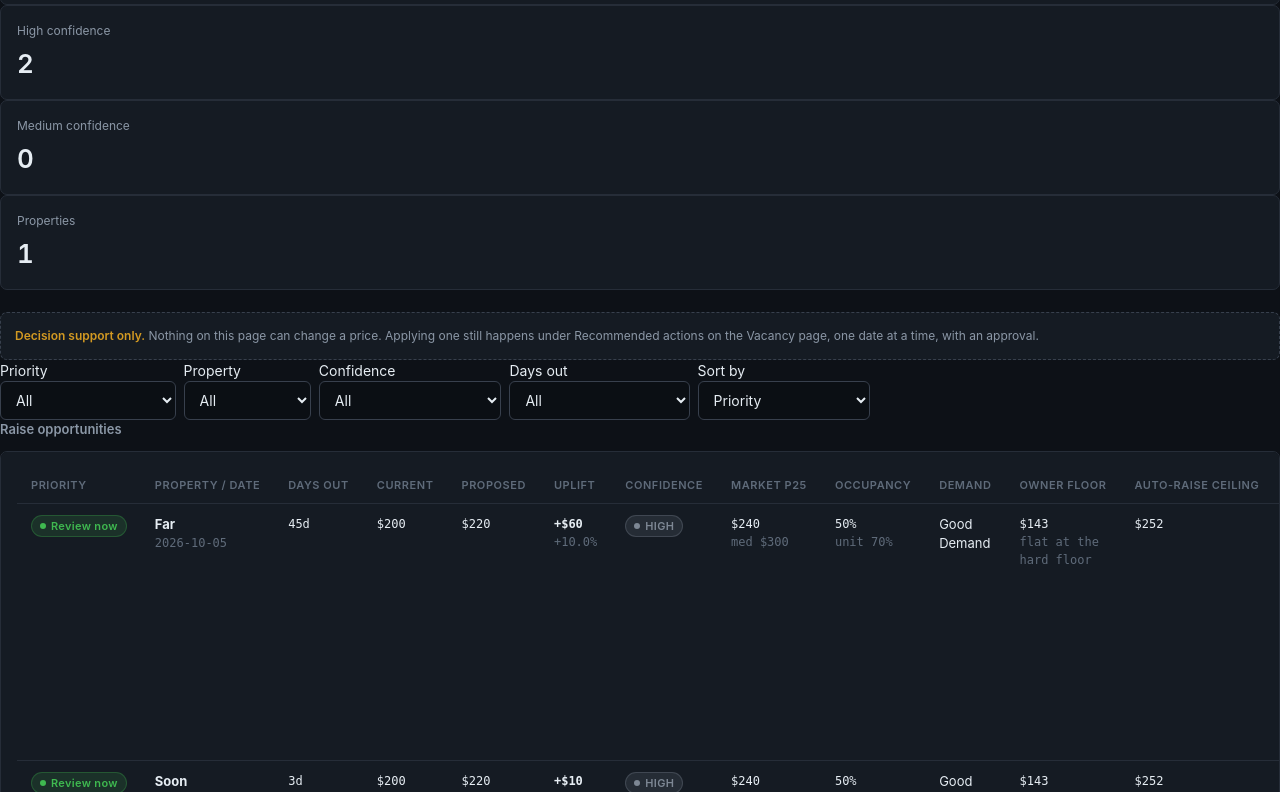
Test: OpportunitiesPage › filters by lead-time window and reconciles the total to what is shown
The image size is (1280, 792).
(page scrolled)
Select "0-7 days" in the dropdown labelled "Days out" at (600, 400), box [509,380,690,420]
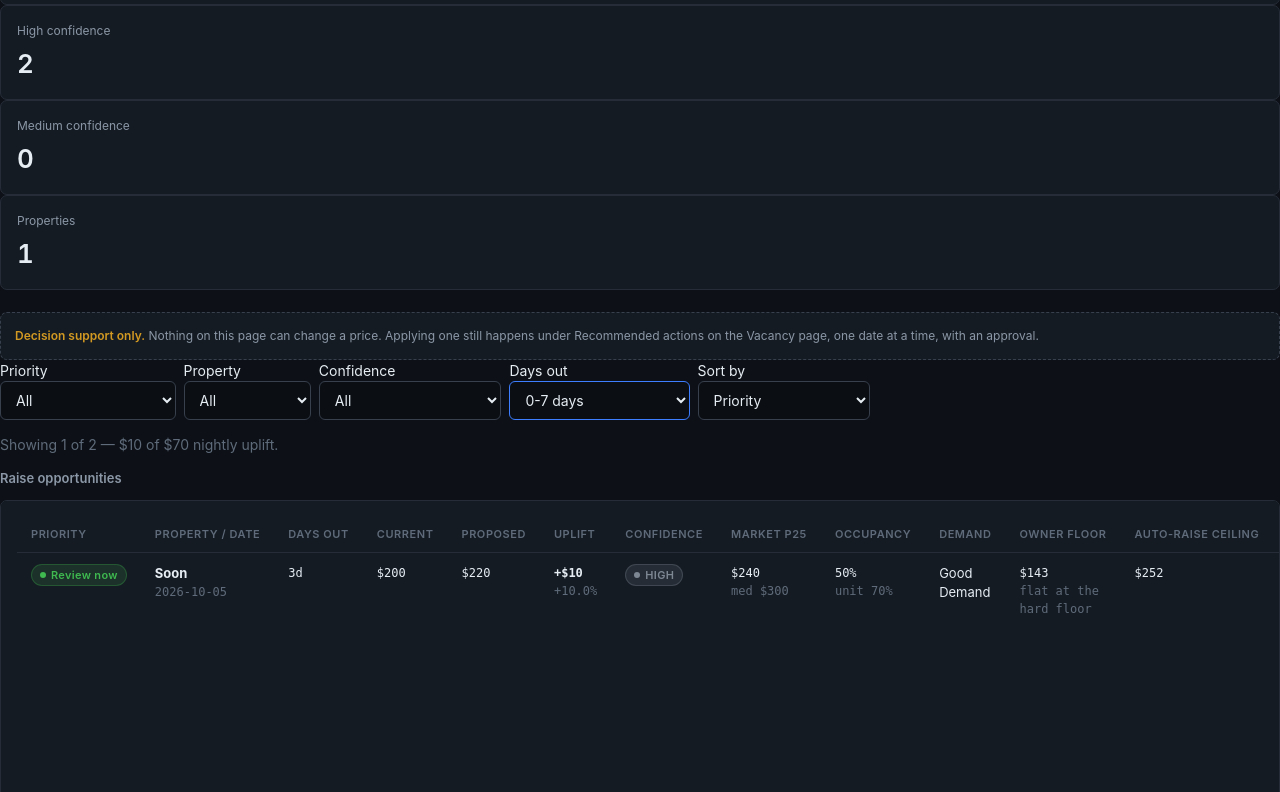
Check: the text "Showing 1 of 2 — $10 of $70 nightly uplift." is shown, box [0,436,278,452]
